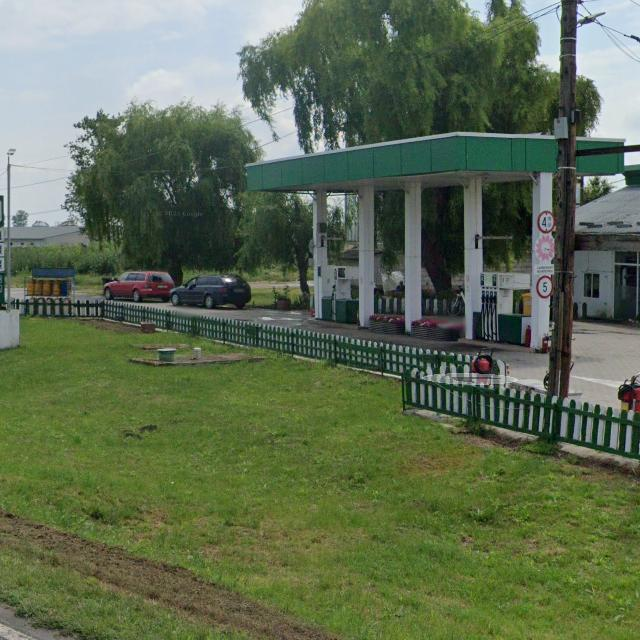forb_speed_over_5: (536, 276, 553, 298)
